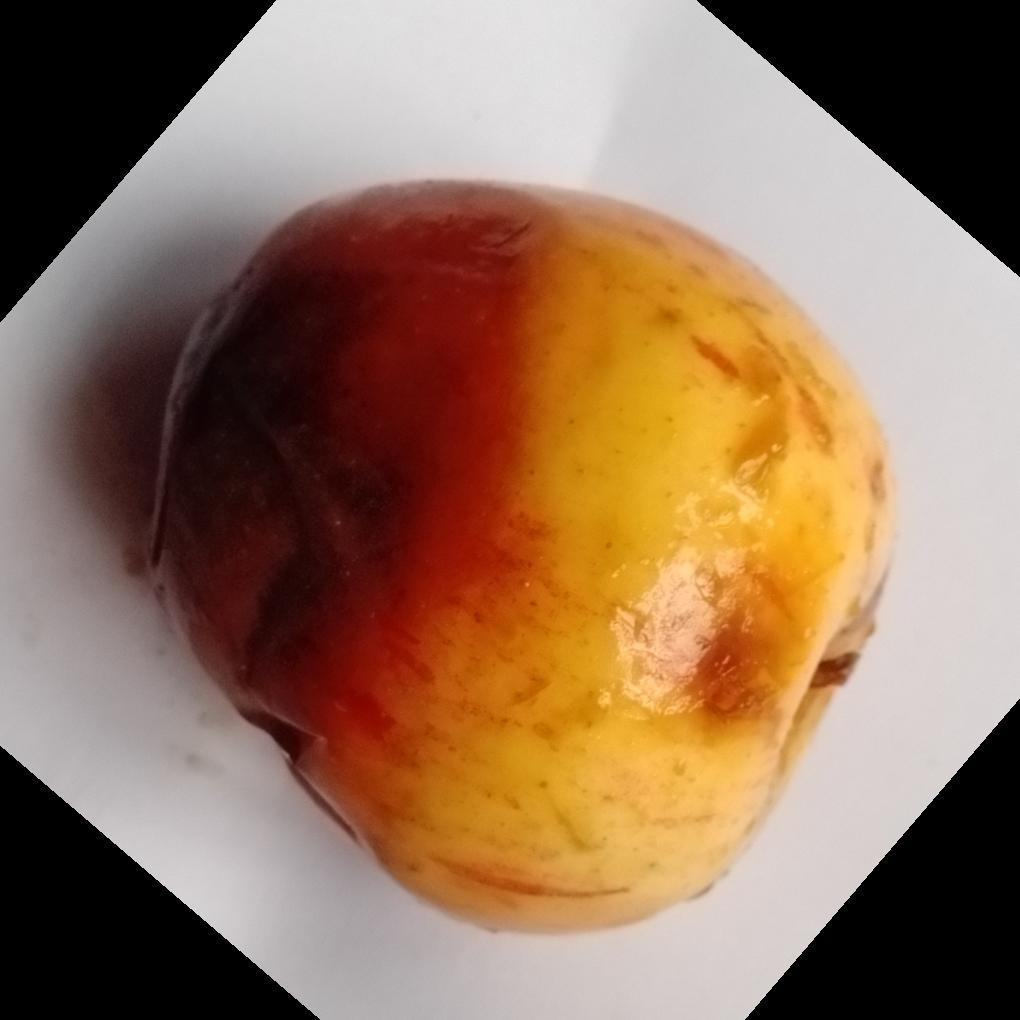FreshOrange: (141, 179, 899, 938)
